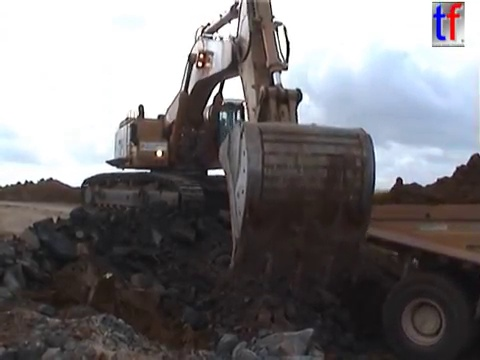excavator: (77, 1, 379, 299)
truck: (277, 191, 480, 360)
